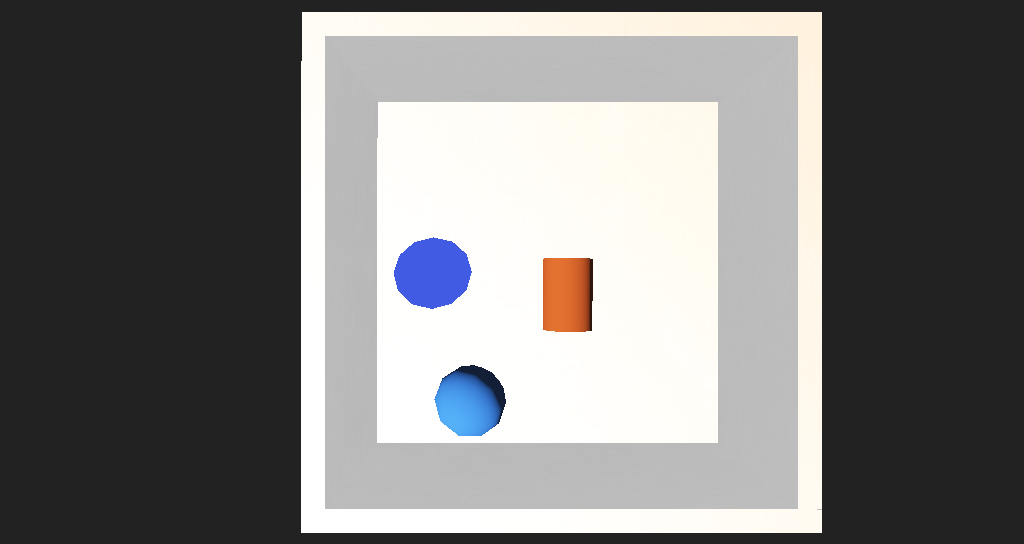cone: (502, 258, 549, 305)
cylinder: (367, 248, 441, 305)
sphere: (408, 327, 468, 370)
